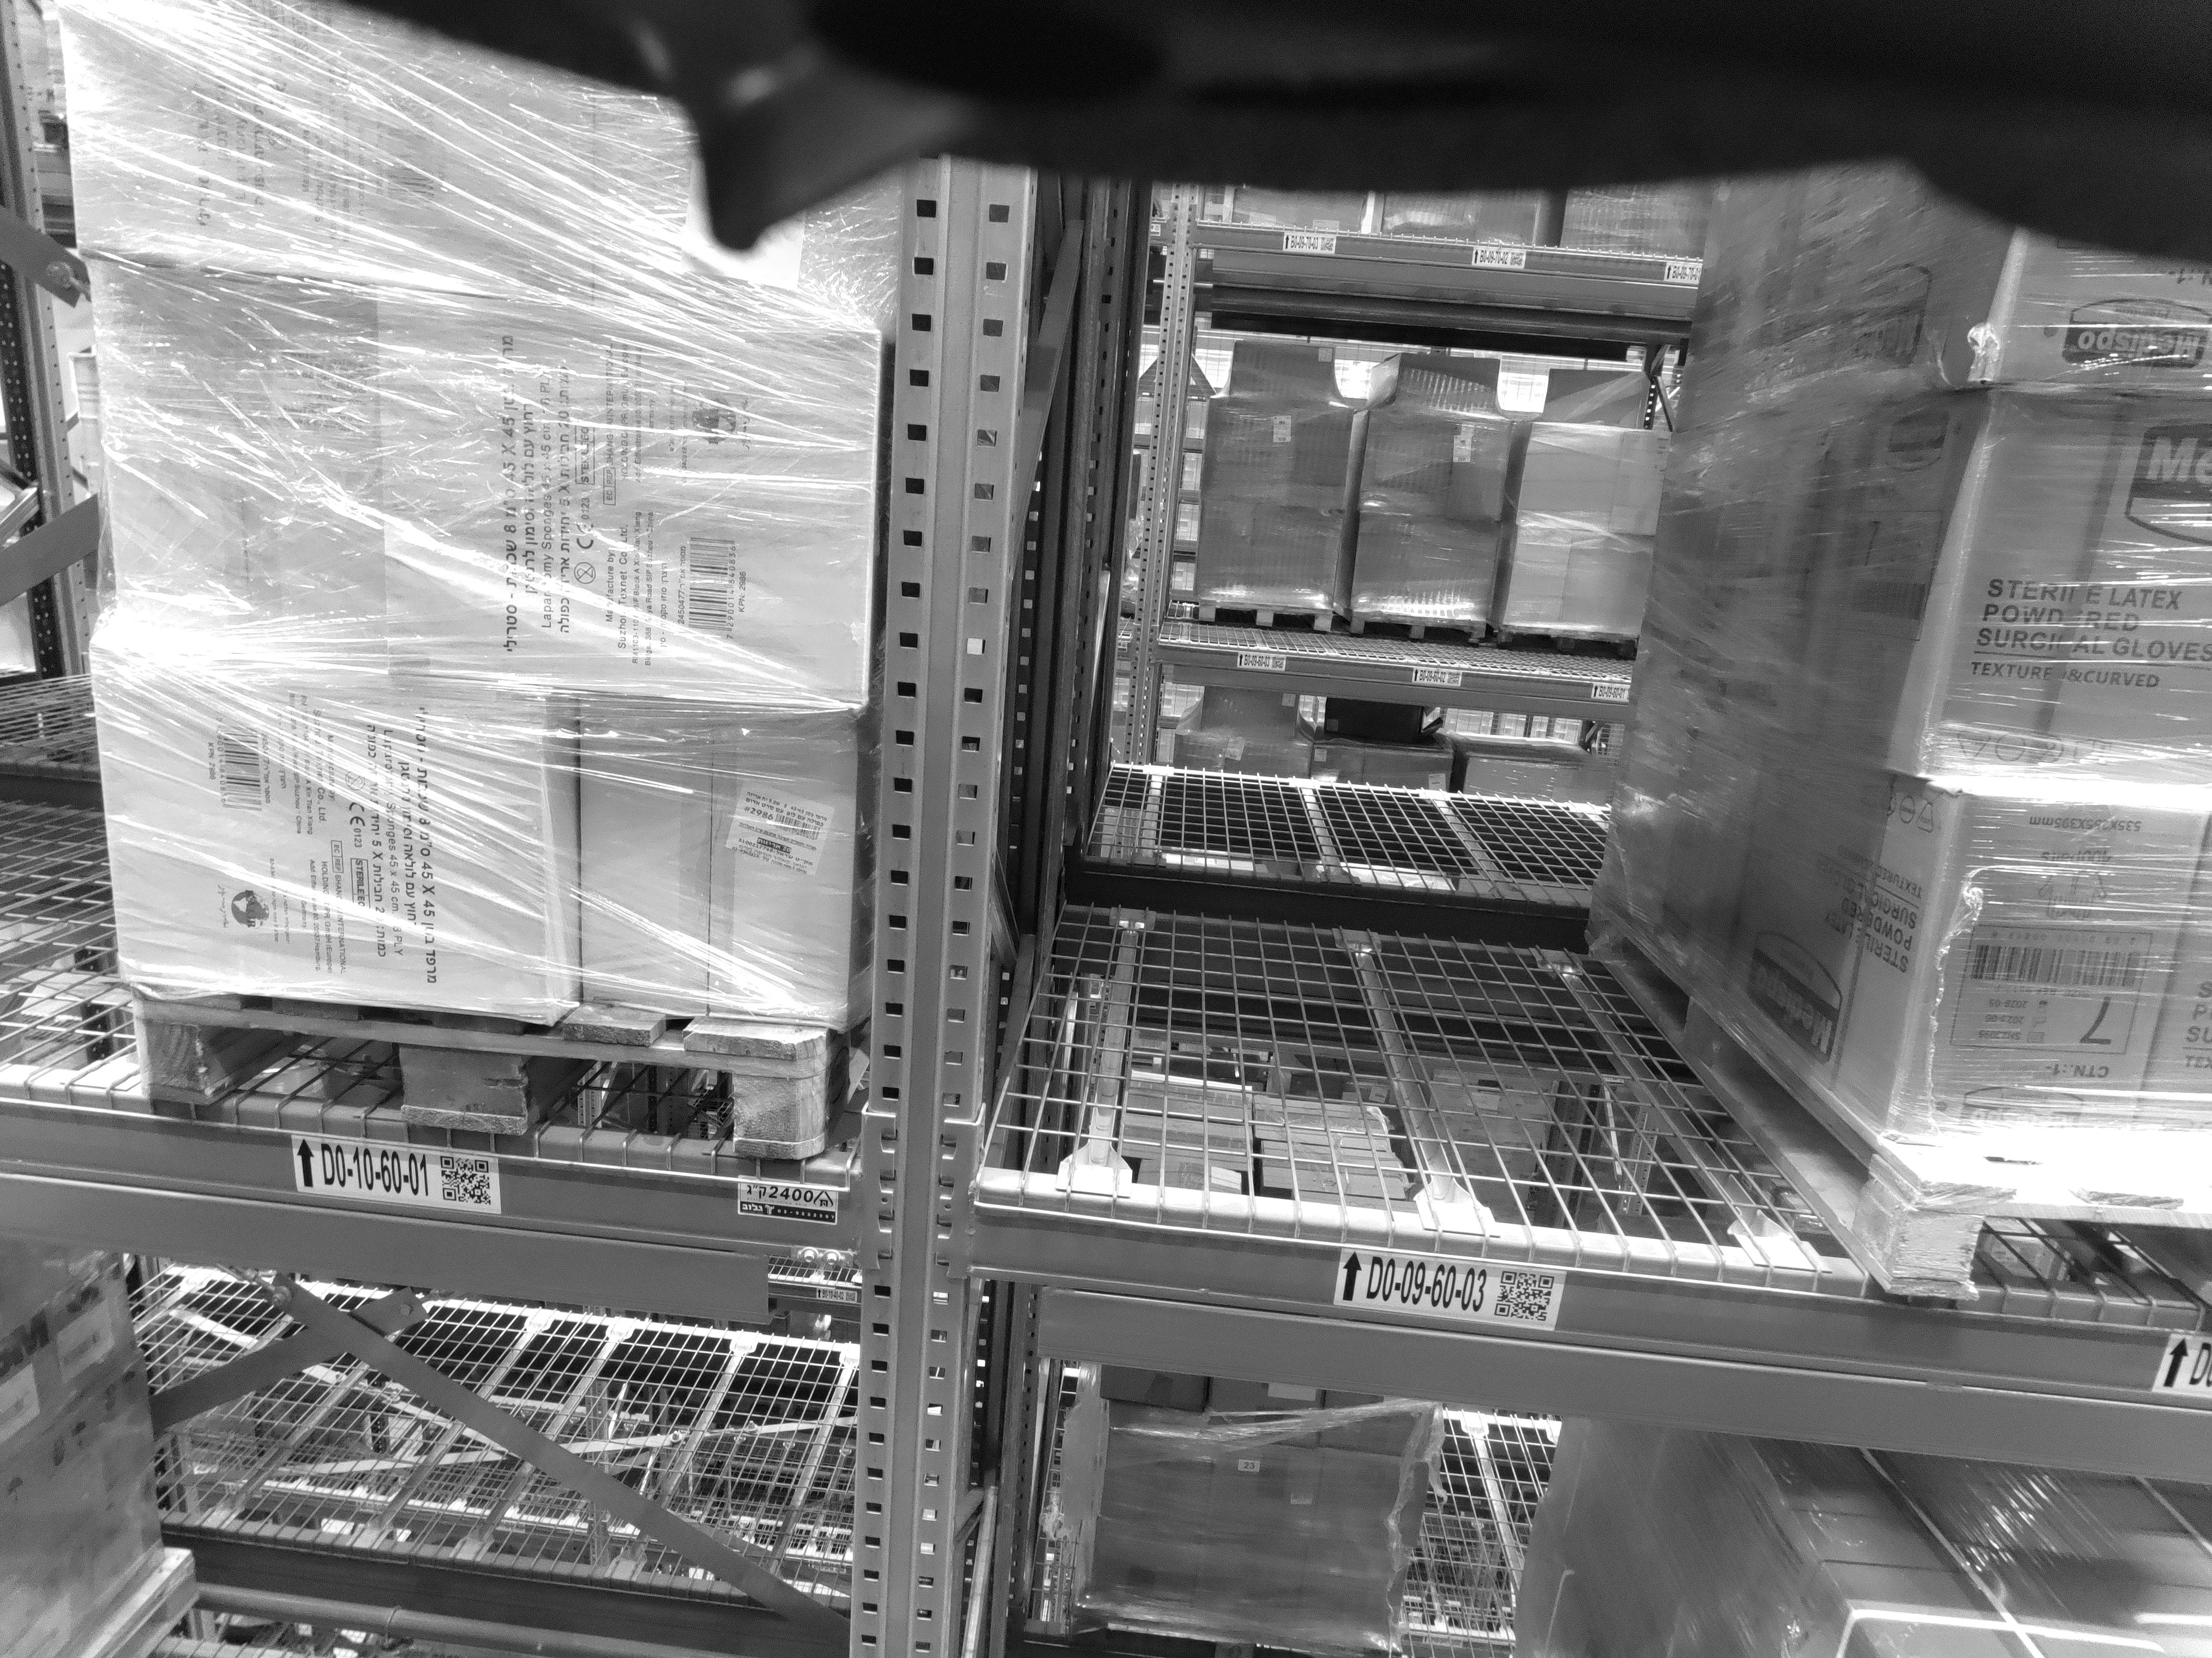empty-shelf: (1214, 204, 1663, 1214)
